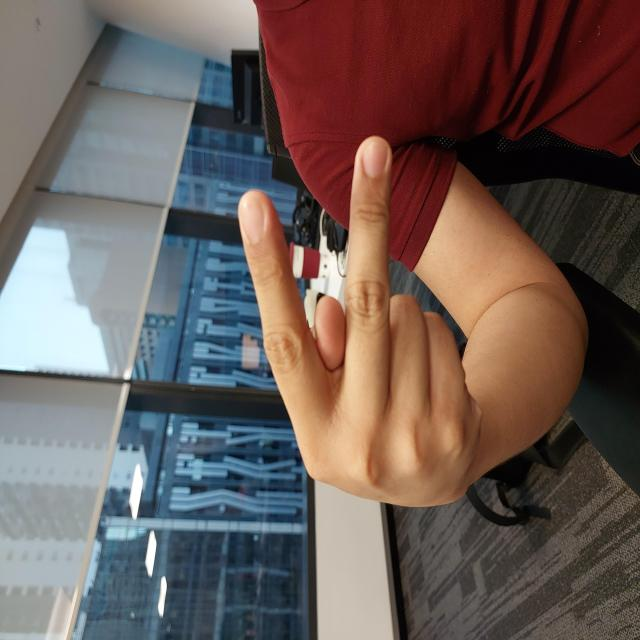K: (130, 236, 506, 485)
